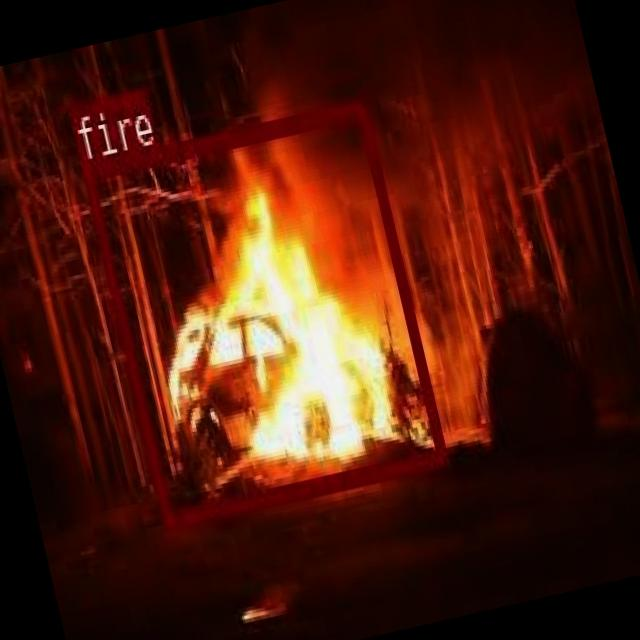fire: (80, 99, 447, 528)
